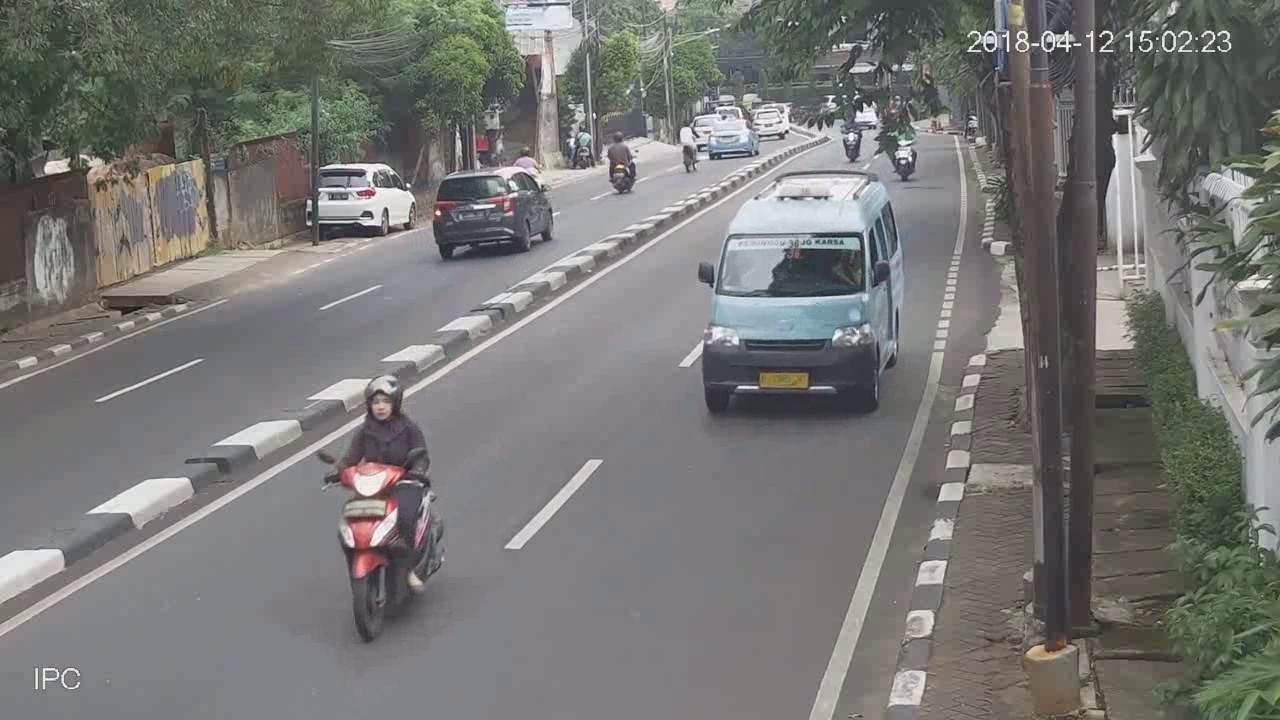car: (700, 165, 901, 421), (432, 169, 553, 259), (311, 159, 419, 240)
motorcycle: (315, 370, 449, 642), (605, 130, 638, 197)
